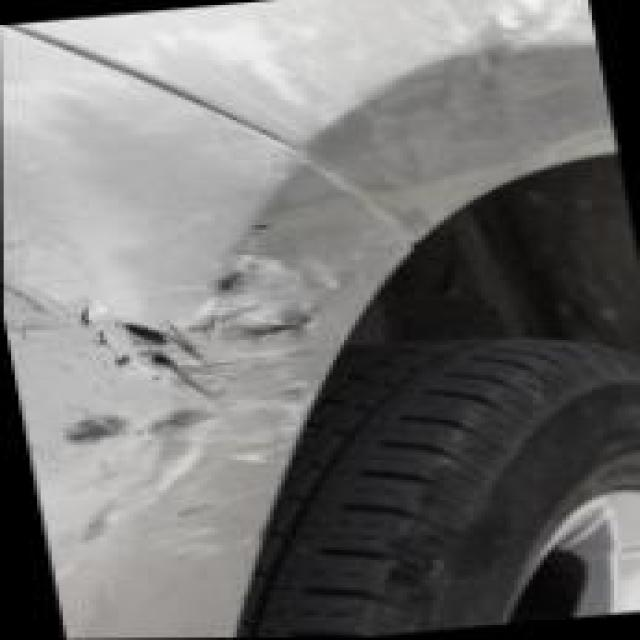Bumper: (0, 38, 438, 639)
